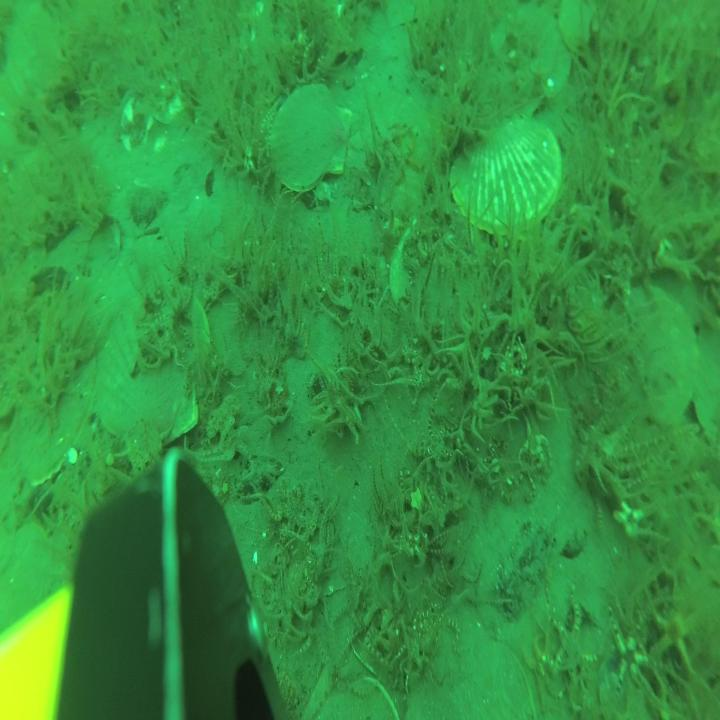scallop: (100, 288, 211, 450), (449, 115, 563, 230), (634, 284, 699, 422), (270, 84, 352, 190), (556, 0, 654, 56)
